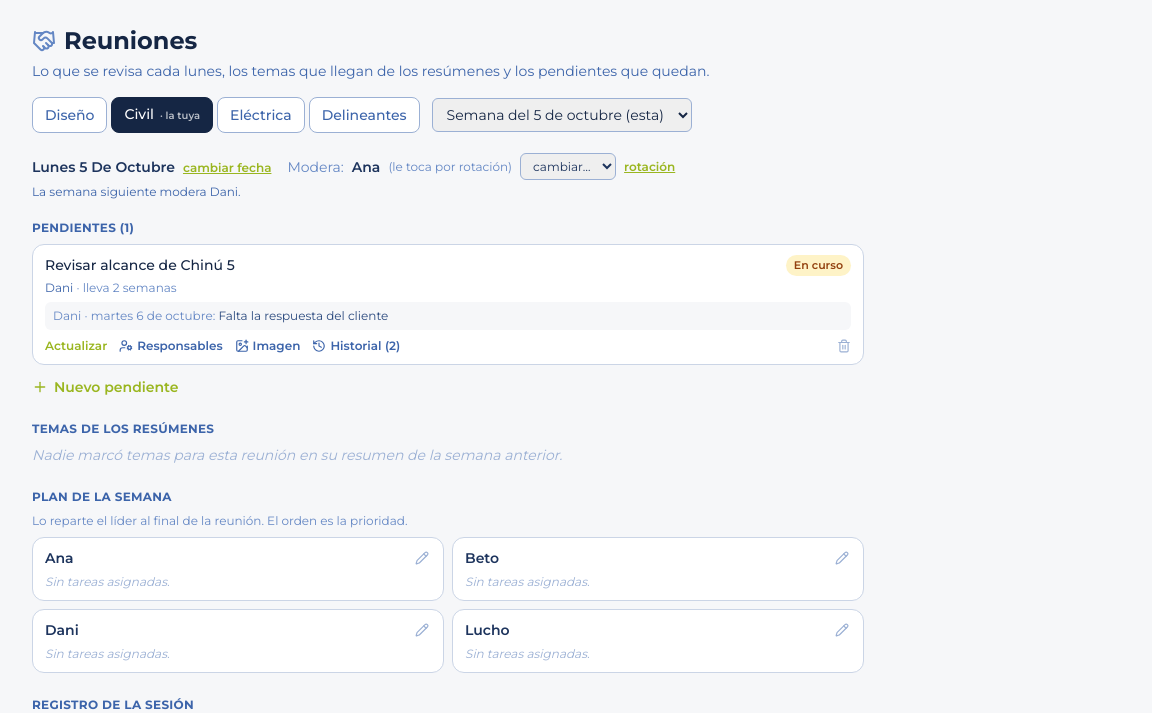
Scenario: el plan de la semana › se puede partir del plan anterior
The image size is (1152, 713).
Step 1. Click the 3rd button titled "Editar el plan" → (422, 630), box [413,620,431,638]
(page scrolled)
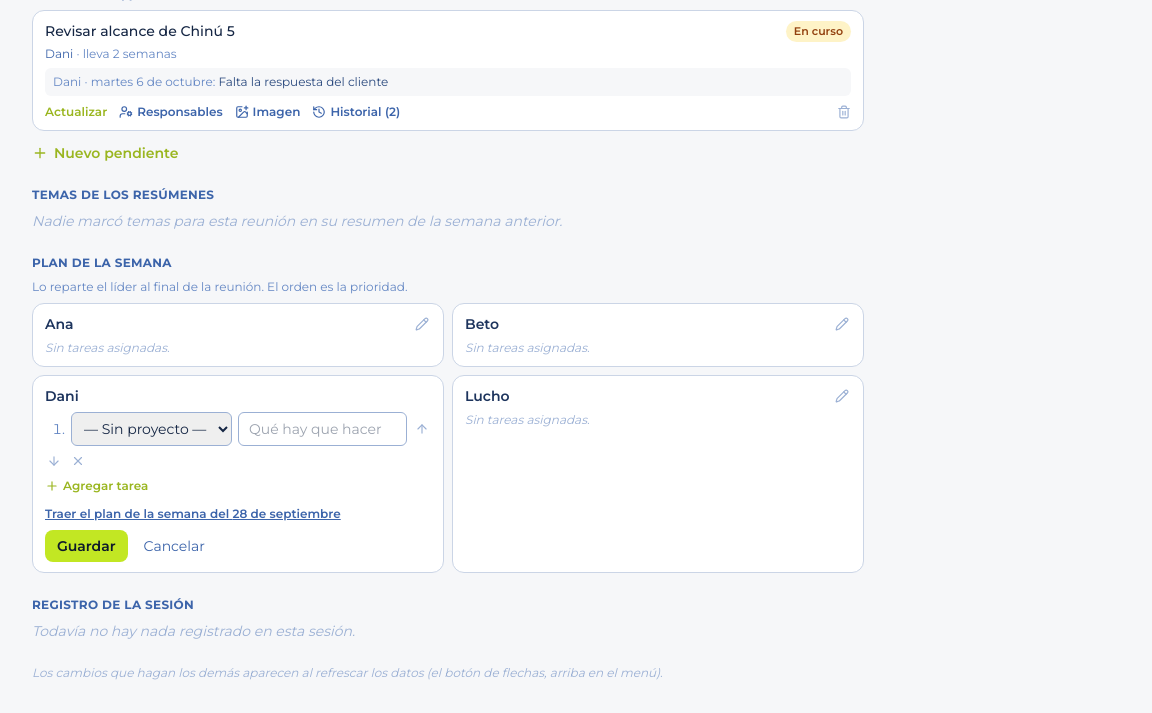
Step 2. Click the button "Traer el plan de la semana del 28 de septiembre" → (193, 514), box [45,506,341,522]
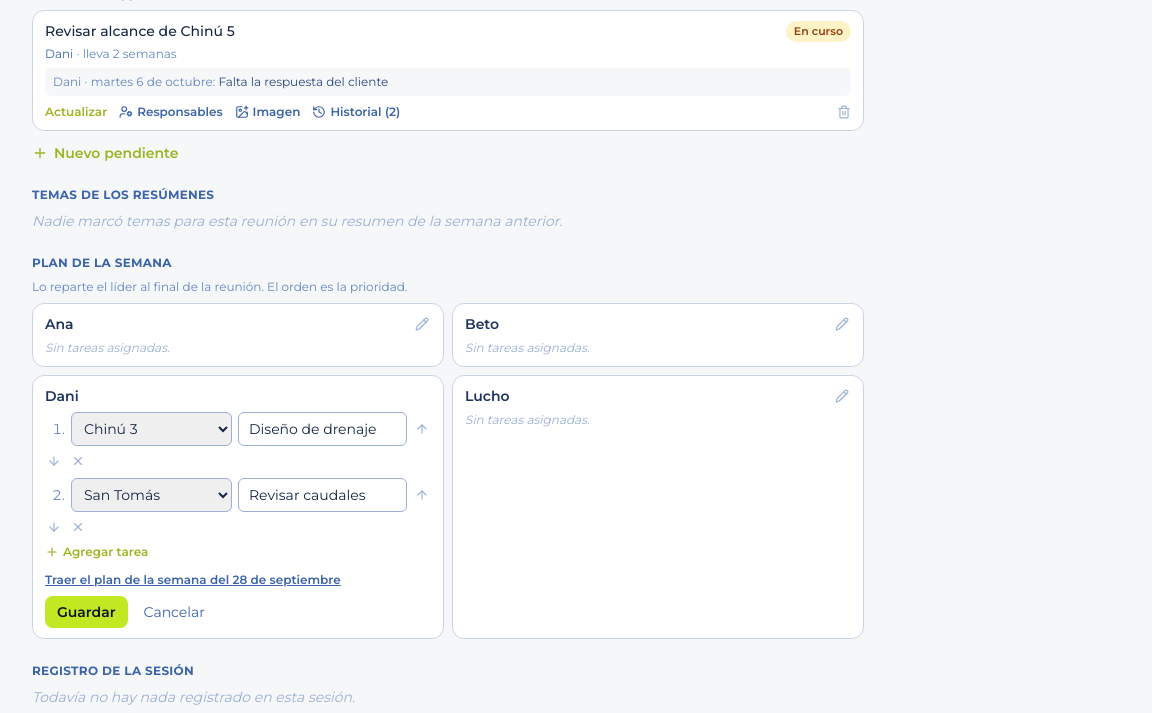
Result: the field named "Tarea 1" holds "Diseño de drenaje" at [238,412,407,446]
Result: the field named "Tarea 2" holds "Revisar caudales" at [238,478,407,512]
